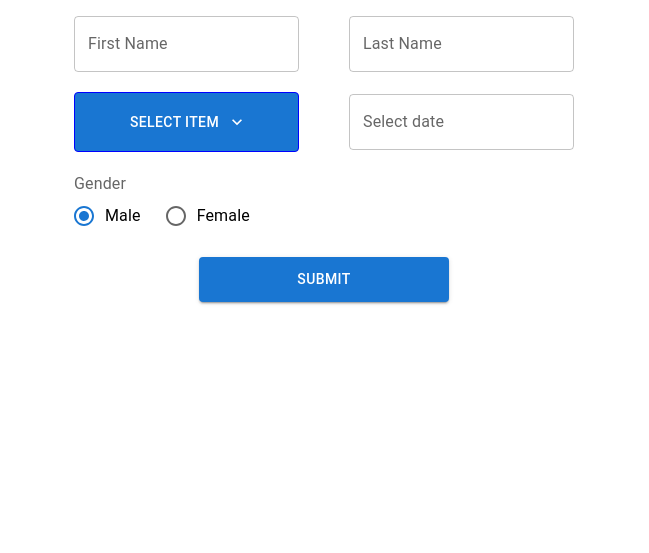
Form component integration test › Failure case
What coordinates should you click on to do the following:
click the submit button
I would click on:
 (324, 280)
Its box is [199,257,449,302].
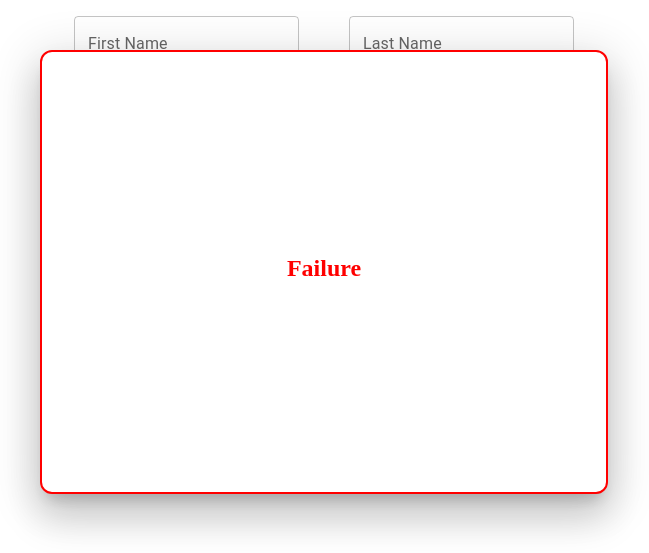
Check: the heading "Failure" is shown, box [287,254,361,282]
